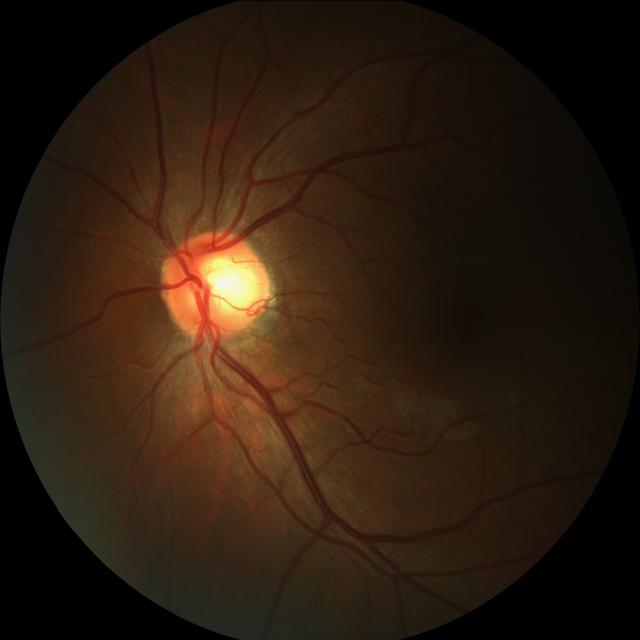OC: (196, 254, 257, 314)
OD: (163, 230, 273, 339)
